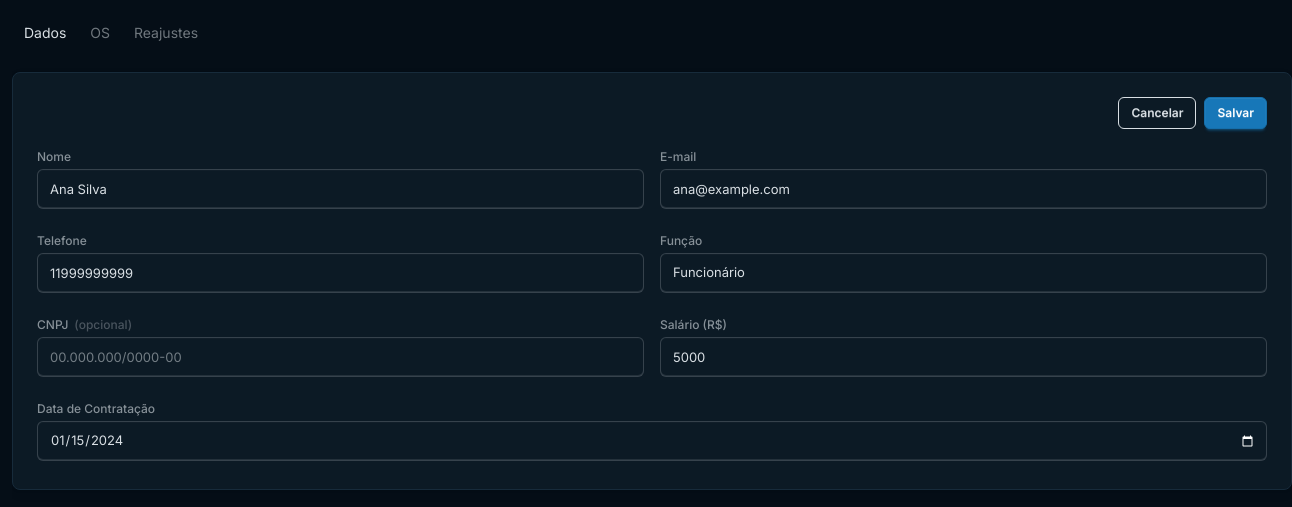
Test: switches to the "trabalhos" tab and lists jobs for the employee
The image size is (1292, 507).
Expected: the field labelled "Nome" holds "Ana Silva", [37,169,644,209]
Click the tab "OS": (100, 32) [78,12,122,52]
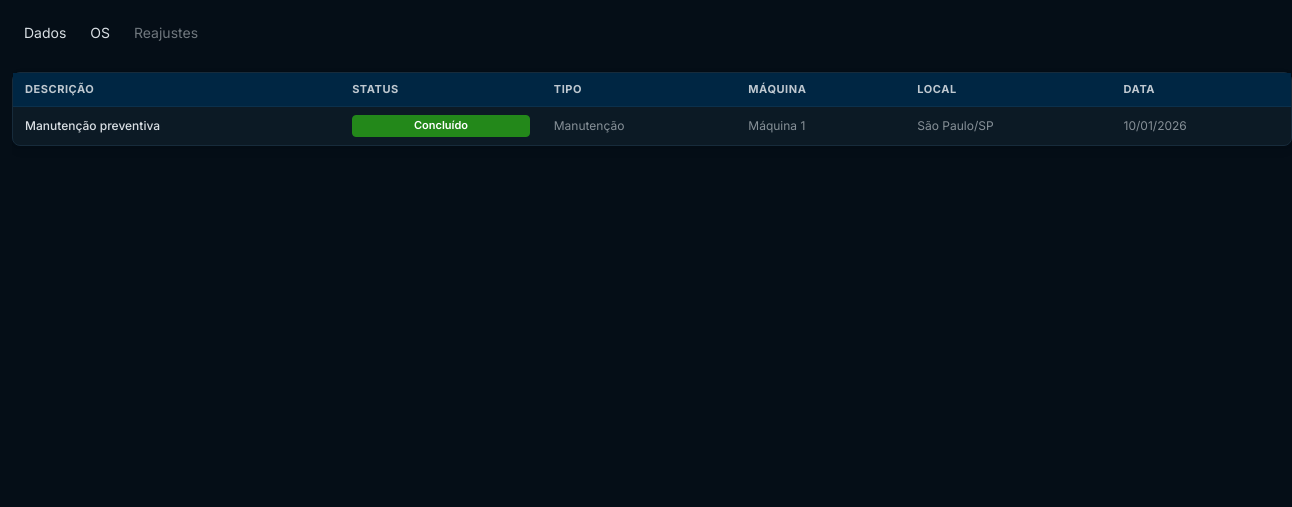
Now the text "Manutenção preventiva" is shown, box [13,107,340,145]
